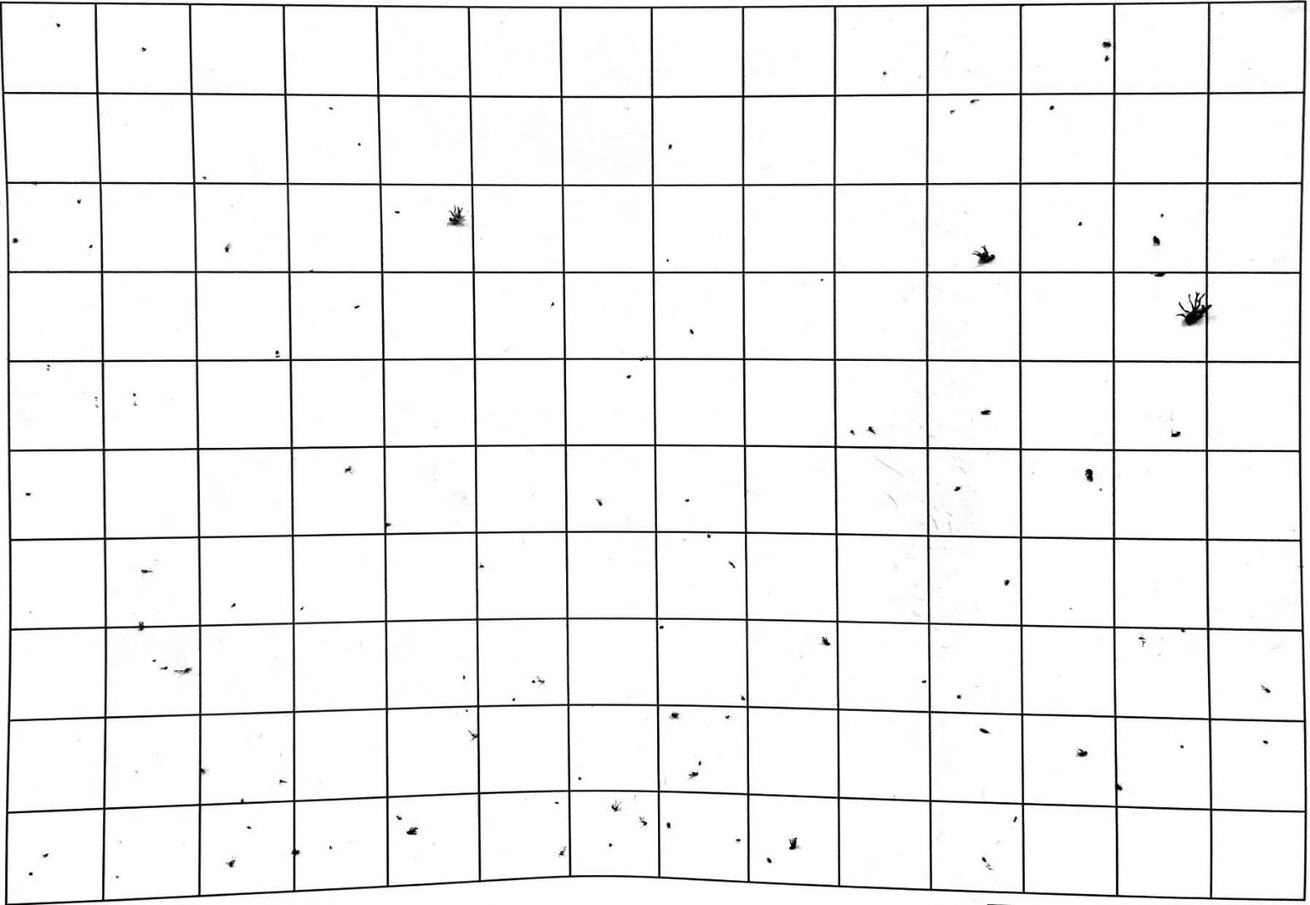fly: (1175, 288, 1214, 330), (443, 203, 468, 230)
test: (974, 248, 993, 263), (785, 836, 801, 853), (174, 665, 193, 677), (466, 730, 482, 743), (405, 826, 420, 839), (1150, 234, 1163, 248), (819, 635, 832, 649), (610, 801, 624, 814), (1075, 747, 1090, 759), (557, 845, 569, 860), (1084, 467, 1095, 483), (1169, 427, 1182, 440), (865, 423, 878, 436), (1259, 683, 1272, 695), (978, 725, 990, 738), (135, 620, 147, 633), (1099, 39, 1112, 51), (980, 408, 995, 418), (952, 483, 964, 495), (967, 96, 983, 105), (594, 496, 605, 509), (343, 464, 354, 477), (392, 812, 405, 823), (221, 243, 233, 254), (688, 770, 699, 782), (638, 816, 649, 828), (138, 566, 152, 575), (686, 325, 697, 336), (227, 858, 238, 869), (727, 559, 737, 571), (668, 711, 680, 721), (475, 561, 487, 571), (532, 676, 544, 686), (1260, 736, 1270, 747), (40, 850, 51, 860), (979, 853, 988, 865), (1153, 271, 1165, 280), (1113, 781, 1123, 791), (1177, 625, 1187, 635), (764, 855, 774, 865), (227, 601, 238, 610), (239, 796, 247, 808), (1048, 102, 1057, 112), (666, 142, 675, 152), (1157, 211, 1167, 220), (847, 427, 856, 437), (624, 372, 633, 382), (920, 676, 929, 686), (277, 776, 286, 786), (198, 767, 208, 776), (1102, 54, 1112, 63), (704, 533, 713, 542), (948, 106, 956, 116), (656, 623, 666, 631), (739, 694, 749, 702), (290, 847, 300, 855), (53, 21, 63, 29), (1076, 220, 1085, 228), (27, 869, 35, 878), (244, 823, 253, 831), (1177, 743, 1185, 752), (880, 69, 889, 77), (11, 237, 19, 246), (393, 209, 402, 217), (382, 522, 392, 529), (23, 490, 33, 497), (75, 198, 83, 206), (1003, 578, 1012, 585), (1012, 814, 1019, 823), (665, 821, 672, 830), (353, 302, 360, 311), (355, 140, 362, 149), (272, 349, 281, 356), (161, 665, 170, 672), (684, 496, 691, 504), (955, 692, 962, 700), (140, 46, 148, 53), (87, 243, 94, 251), (461, 673, 468, 681), (576, 775, 583, 782), (725, 713, 731, 721), (735, 836, 741, 844), (550, 300, 556, 308), (328, 105, 334, 112), (201, 174, 208, 180), (308, 268, 314, 275), (131, 390, 137, 397), (511, 696, 517, 703), (608, 841, 614, 848), (696, 760, 702, 767), (327, 844, 334, 850), (299, 604, 305, 610), (554, 799, 559, 806), (665, 256, 670, 262), (151, 658, 157, 662)
